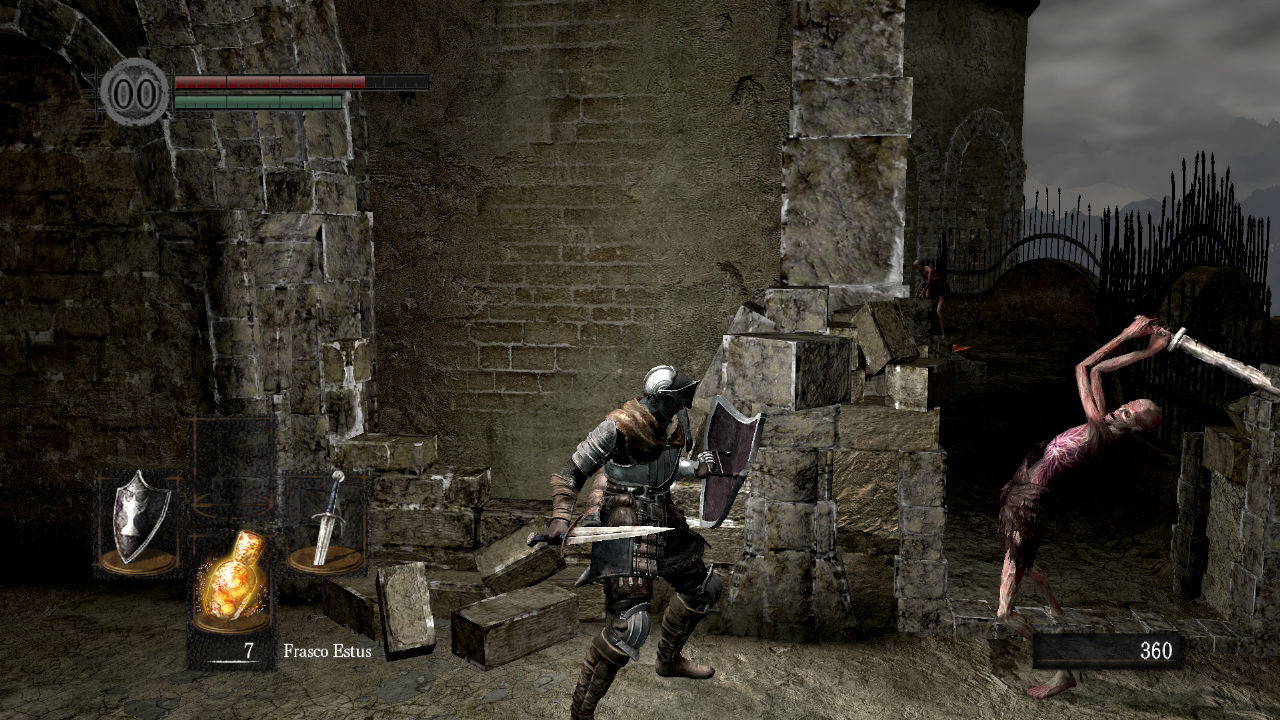hollow: (996, 315, 1280, 698), (912, 260, 951, 340)
player: (526, 364, 769, 720)
